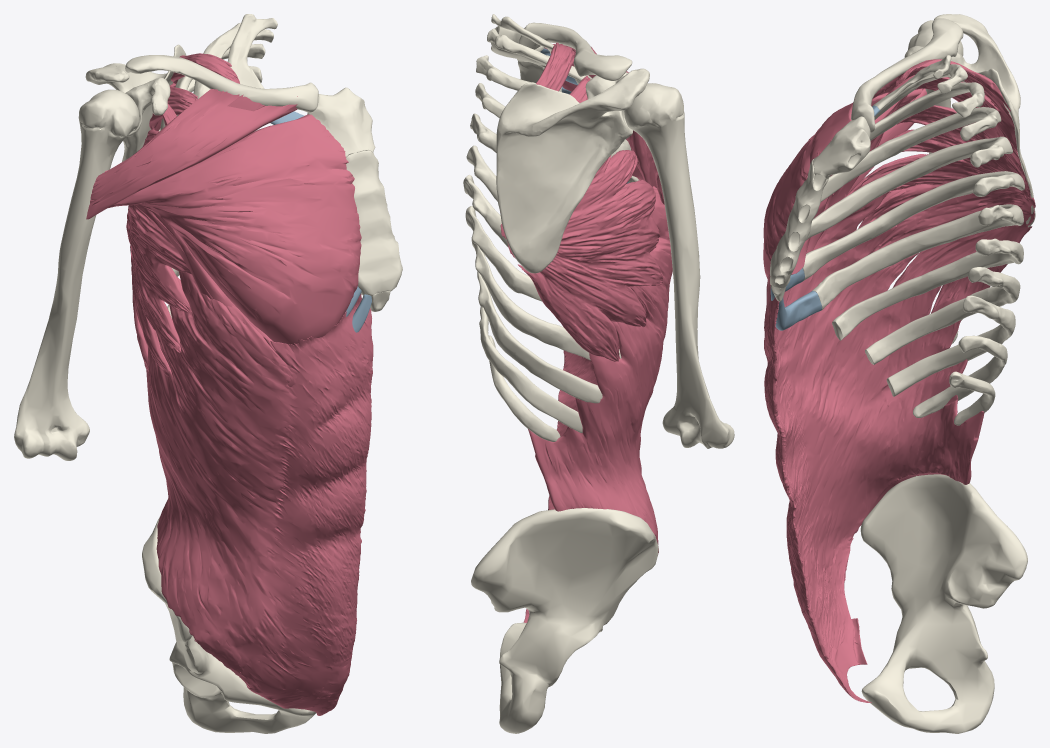
File: torso.glb
The picture shows the model from 3 angles, left to right: view 1: azimuth 30°, elevation 25°; view 2: azimuth 150°, elevation 25°; view 3: azimuth 270°, elevation 25°; orthographic projection. The views are drawn at different scales.
Parts seen in each view (by area): view 1: external-oblique, pectoralis-major, humerus, serratus-anterior, sternum, hip-bone, clavicle, scapula, rib-1, rib-2; view 2: hip-bone, external-oblique, scapula, serratus-anterior, humerus, rib-10, rib-9, clavicle, rib-11, rib-8, rib-12, sternum (+9 smaller); view 3: external-oblique, hip-bone, serratus-anterior, sternum, pectoralis-major, rib-7, rib-6, rib-5, rib-8, rib-9, rib-4, scapula (+10 smaller).
Part boxes in pixels (x1,y1,x2,y2): external-oblique: (146, 271, 373, 715); pectoralis-major: (86, 89, 361, 387); humerus: (14, 89, 139, 460); serratus-anterior: (126, 53, 239, 376); sternum: (307, 87, 402, 311); hip-bone: (142, 517, 315, 733); clavicle: (125, 55, 318, 112); scapula: (85, 44, 186, 161); rib-1: (227, 14, 277, 88); rib-2: (193, 23, 273, 98); hip-bone: (471, 508, 658, 733); external-oblique: (523, 186, 672, 622); scapula: (496, 68, 649, 273); serratus-anterior: (500, 42, 662, 361); humerus: (624, 83, 734, 448); rib-10: (477, 271, 602, 403); rib-9: (471, 236, 621, 360); clavicle: (519, 22, 632, 80); rib-11: (479, 306, 582, 432); rib-8: (465, 206, 542, 301); rib-12: (489, 335, 560, 441); sternum: (490, 26, 561, 92); external-oblique: (764, 191, 984, 702); hip-bone: (860, 474, 1027, 733); serratus-anterior: (847, 59, 1035, 313); sternum: (770, 116, 870, 301); pectoralis-major: (763, 73, 926, 329); rib-7: (812, 204, 1023, 310); rib-6: (802, 171, 1024, 280); rib-5: (805, 136, 1012, 240); rib-8: (832, 238, 1023, 340); rib-9: (865, 267, 1020, 364); rib-4: (820, 107, 1001, 201); scapula: (904, 14, 1035, 227).
Bounding box in the file's own units: 0.2904 × 0.6183 × 0.2246.
